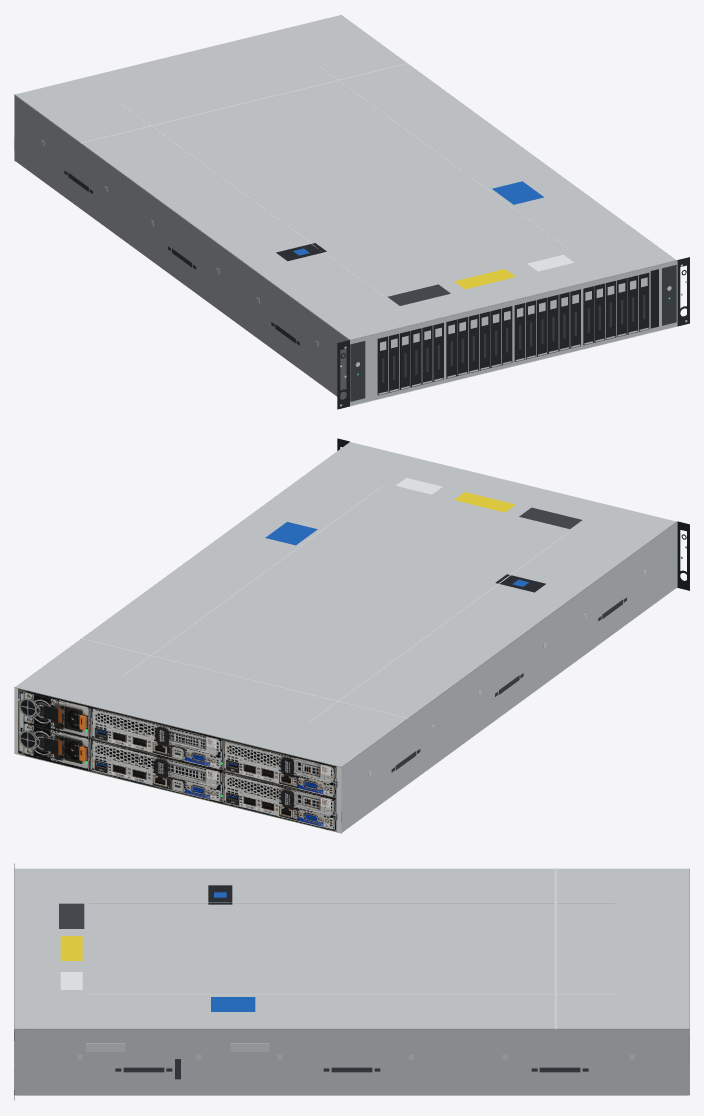
Rendered from Dell-PowerEdge-C6300-4xC6320-24SFF-web.glb.
3 views of the same model, one above another, from view 1: azimuth 30°, elevation 25°; view 2: azimuth 150°, elevation 25°; view 3: azimuth 270°, elevation 25° (orthographic).
Parts seen in each view (by area): view 1: Closed_2U_Chassis_Core, Front_Left_Control_Panel, Front_Right_Control_Panel, Top_Blue_Rectangular_Pad, Top_Factory_Label_Block_Black; view 2: Closed_2U_Chassis_Core, Rear_SourceLocked_Texture, Top_Blue_Rectangular_Pad, Top_Factory_Label_Block_Black, Physical_Left_SourceLocked_Texture; view 3: Closed_2U_Chassis_Core, Physical_Right_SourceLocked_Texture, Top_Longitudinal_Seam_1, Top_SourceLocked_Texture, Top_Blue_Rectangular_Pad, Top_Factory_Label_Block_Black, Top_Factory_Label_Block_Yellow, Top_Longitudinal_Seam_2, Top_Cover_Stepped_Seam, Top_Black_Oval_Pad, Top_Factory_Label_Block_White.
Boxes of the visible parts, <box> form: Closed_2U_Chassis_Core: <box>14,15,676,405</box>; Front_Left_Control_Panel: <box>350,341,365,401</box>; Front_Right_Control_Panel: <box>662,265,676,325</box>; Top_Blue_Rectangular_Pad: <box>492,181,543,204</box>; Top_Factory_Label_Block_Black: <box>387,284,450,305</box>; Closed_2U_Chassis_Core: <box>15,442,676,832</box>; Rear_SourceLocked_Texture: <box>14,687,341,832</box>; Top_Blue_Rectangular_Pad: <box>265,522,317,545</box>; Top_Factory_Label_Block_Black: <box>519,507,582,528</box>; Physical_Left_SourceLocked_Texture: <box>341,521,676,832</box>; Closed_2U_Chassis_Core: <box>14,868,689,1095</box>; Physical_Right_SourceLocked_Texture: <box>14,1028,689,1095</box>; Top_Longitudinal_Seam_1: <box>89,902,614,903</box>; Top_SourceLocked_Texture: <box>14,869,689,1029</box>; Top_Blue_Rectangular_Pad: <box>211,997,255,1011</box>; Top_Factory_Label_Block_Black: <box>59,903,84,928</box>; Top_Factory_Label_Block_Yellow: <box>60,936,82,960</box>; Top_Longitudinal_Seam_2: <box>88,994,615,994</box>; Top_Cover_Stepped_Seam: <box>554,868,556,1029</box>; Top_Black_Oval_Pad: <box>208,885,232,904</box>; Top_Factory_Label_Block_White: <box>60,972,82,989</box>.
Bounding box in the file's own units: 0.4823 × 0.0868 × 0.7959.
Materials: 15 (6 with a texture image).
